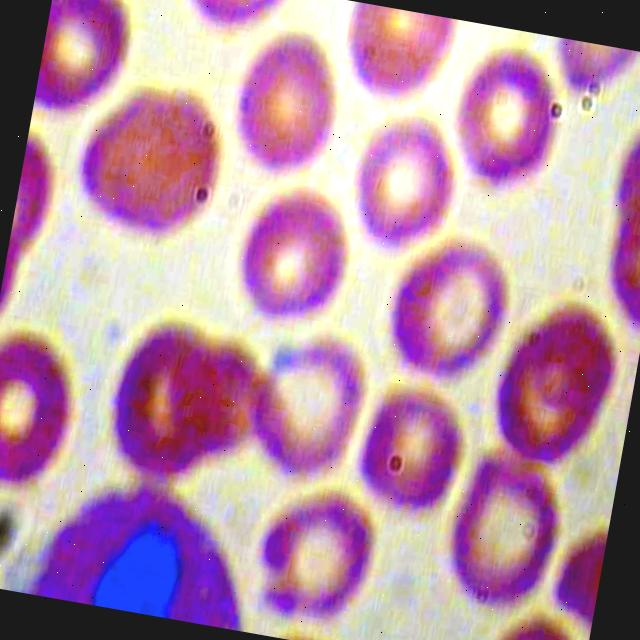RBC: (62, 77, 236, 260), (432, 440, 578, 626), (481, 296, 626, 482), (380, 226, 518, 397), (225, 177, 362, 348), (224, 21, 360, 192), (246, 481, 388, 640), (234, 331, 376, 490), (339, 102, 466, 260), (444, 40, 571, 198), (348, 372, 475, 530), (29, 0, 149, 140), (0, 316, 88, 498)
WBC: (9, 458, 272, 632)
